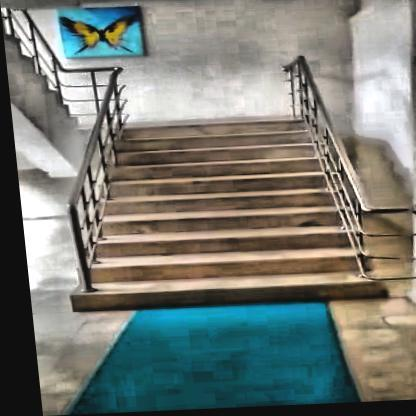stair: (75, 106, 380, 309)
